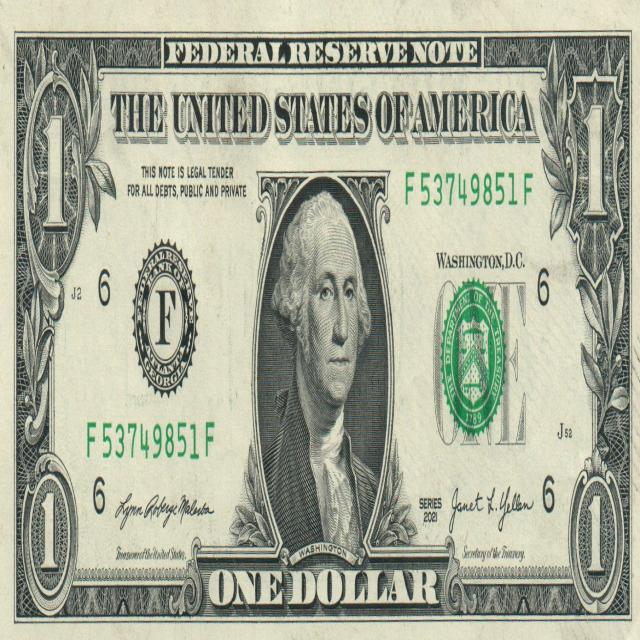SerialNumber: (87, 422, 202, 459), (420, 172, 532, 206)
